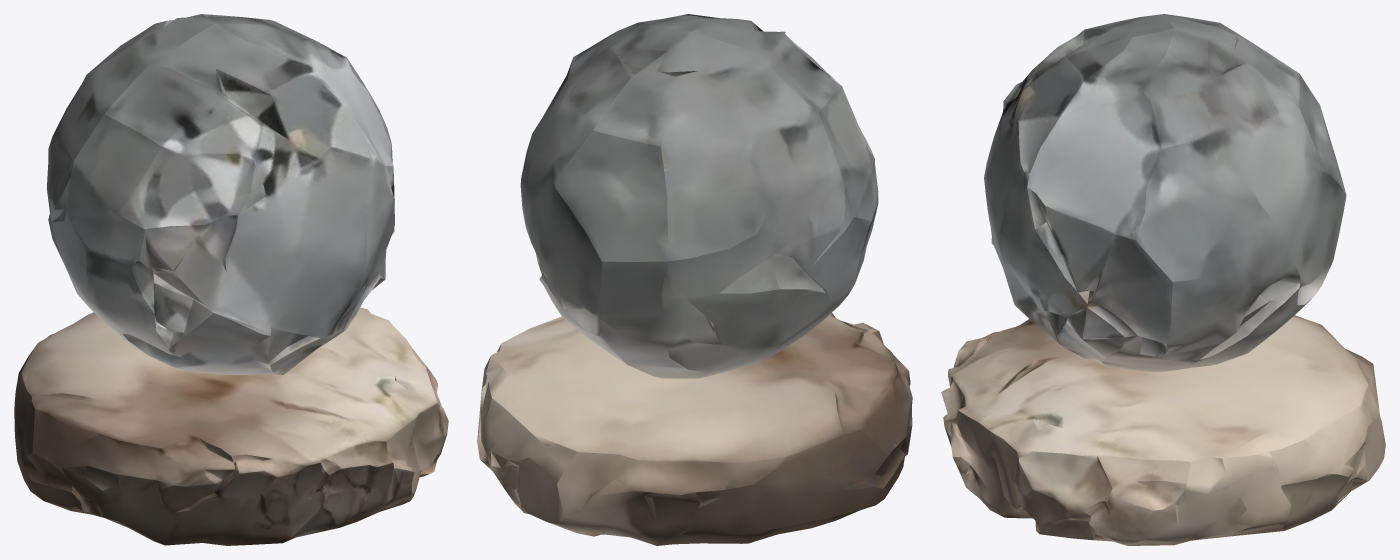
Rendered from m2FloatCrystalPedestal.glb.
3 renders of one model, left to right at view 1: azimuth 30°, elevation 25°; view 2: azimuth 150°, elevation 25°; view 3: azimuth 270°, elevation 25°, orthographic.
Parts seen in each view (by area): view 1: model; view 2: model; view 3: model.
Part boxes in pixels (bbox=[...]): model: bbox=[14, 14, 448, 545]; model: bbox=[477, 14, 912, 545]; model: bbox=[941, 14, 1385, 545].
Bounding box in the file's own units: 1.73 × 1.9 × 1.74.
Materials: 1 (1 with a texture image).
